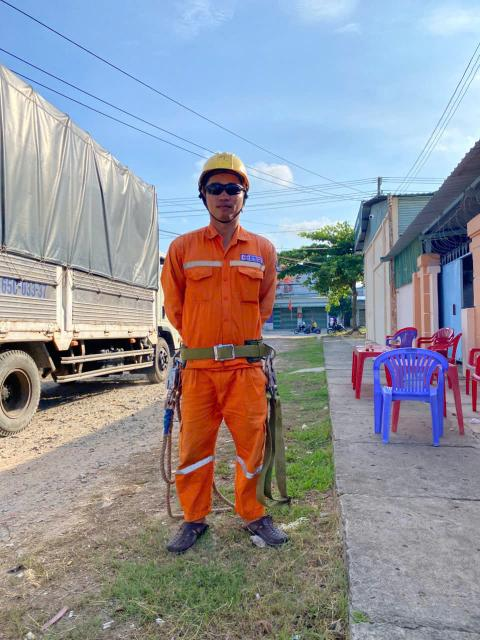harness: (160, 320, 288, 371)
helmet: (191, 145, 268, 195)
shoes: (152, 501, 226, 568), (233, 503, 295, 552)
